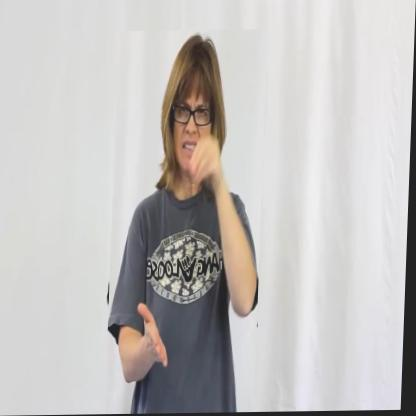Expensive: (108, 30, 268, 415)
